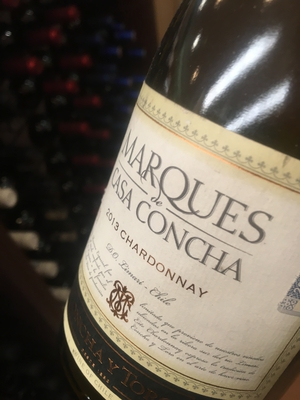marques de casa concha chardonnay: (70, 42, 300, 396)
